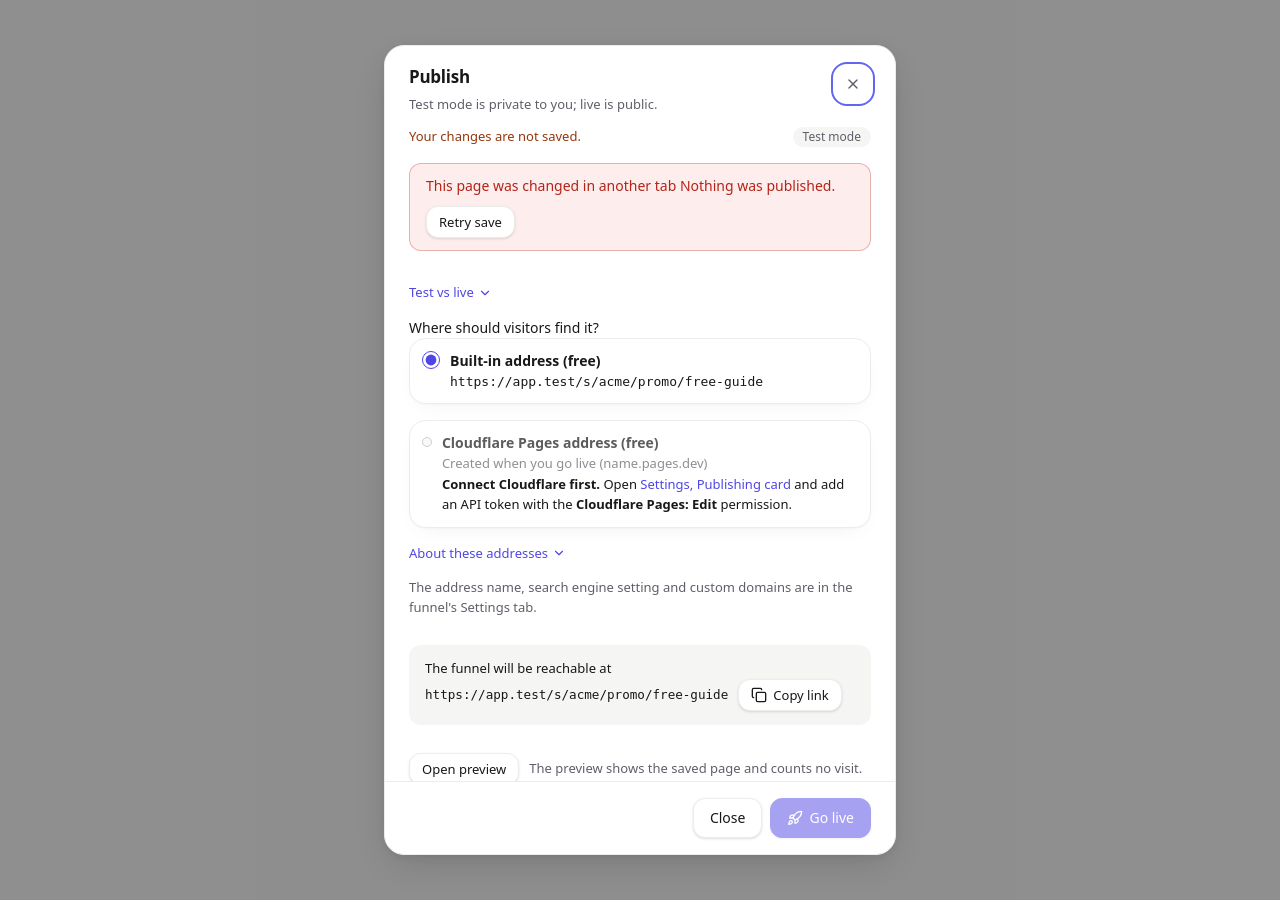
Scenario: PublishDialog › saves unsaved changes first and holds Go live until the save worked; a failed save is explained and can be retried
Expected: the text "This page was changed in another tab Nothing was published." is shown, [426,176,835,196]
Expected: the button "Go live" is disabled, [770,798,871,838]
Click the button "Retry save". click: (470, 222)
box: [426,206,515,238]
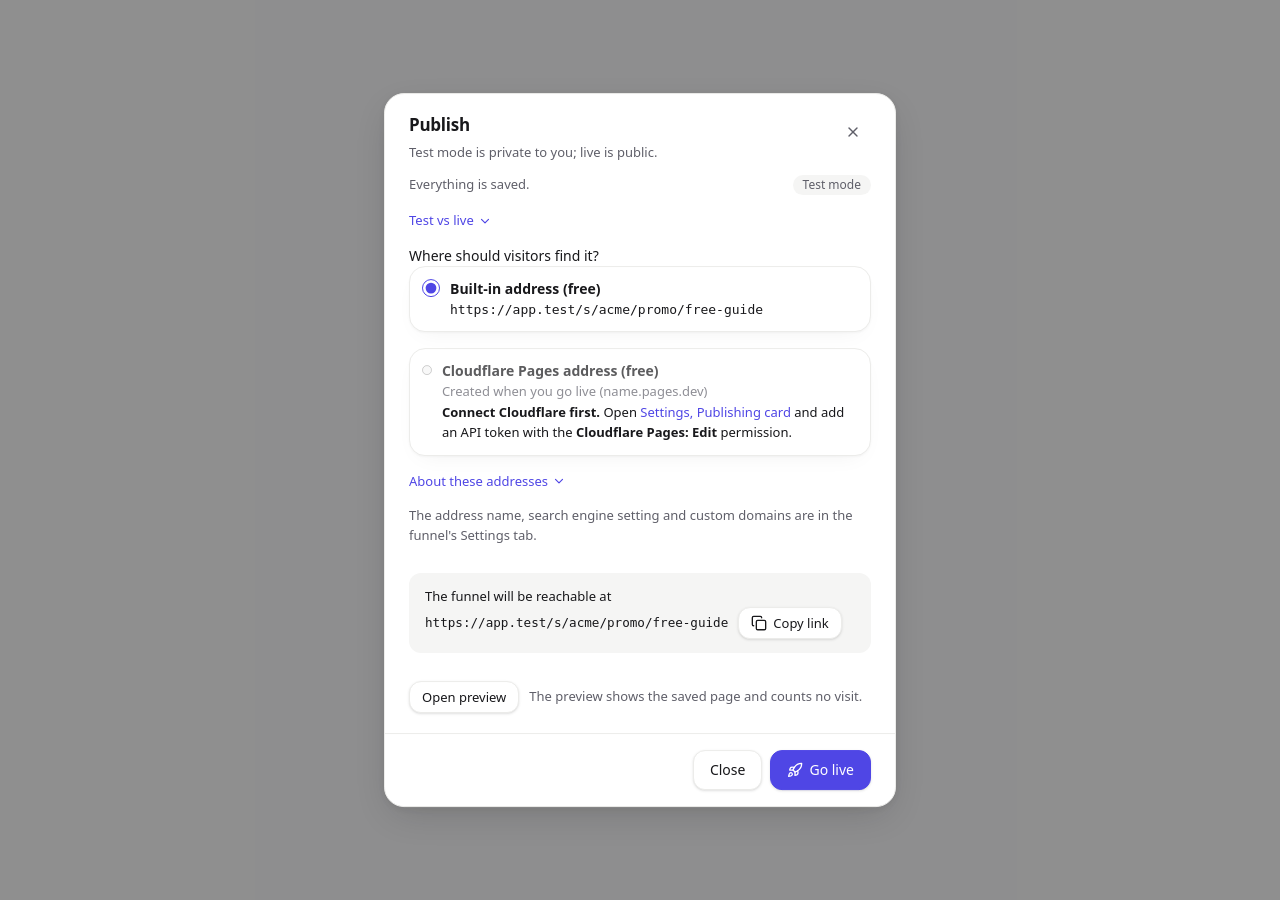
Now the button "Go live" is enabled, box [770,750,871,790]
